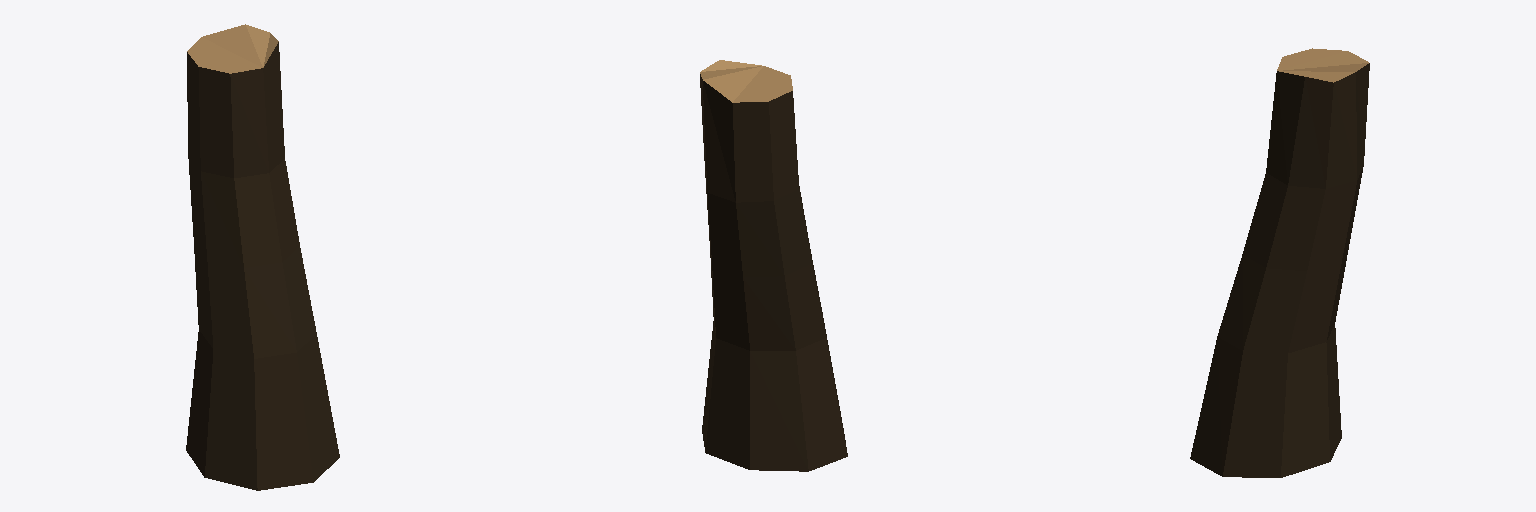
File: Tree_7.obj
3 renders of one model, left to right at view 1: azimuth 30°, elevation 25°; view 2: azimuth 150°, elevation 25°; view 3: azimuth 270°, elevation 25°, orthographic.
Visible parts, largest first — view 1: Cylinder_Cylinder.005; view 2: Cylinder_Cylinder.005; view 3: Cylinder_Cylinder.005.
Part boxes in pixels (bbox=[...]): Cylinder_Cylinder.005: bbox=[186, 24, 339, 490]; Cylinder_Cylinder.005: bbox=[700, 60, 847, 471]; Cylinder_Cylinder.005: bbox=[1190, 48, 1369, 477].
Size of the model in its own units: 0.4326 by 1.24 by 0.513.